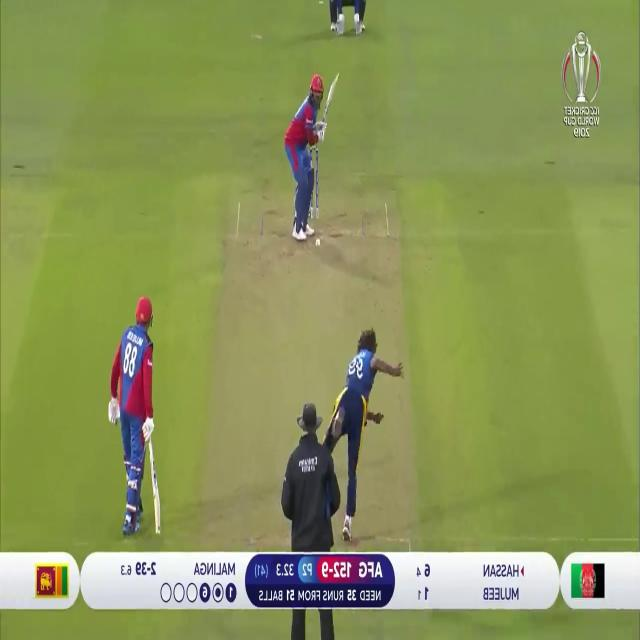ball: (311, 233, 323, 250)
